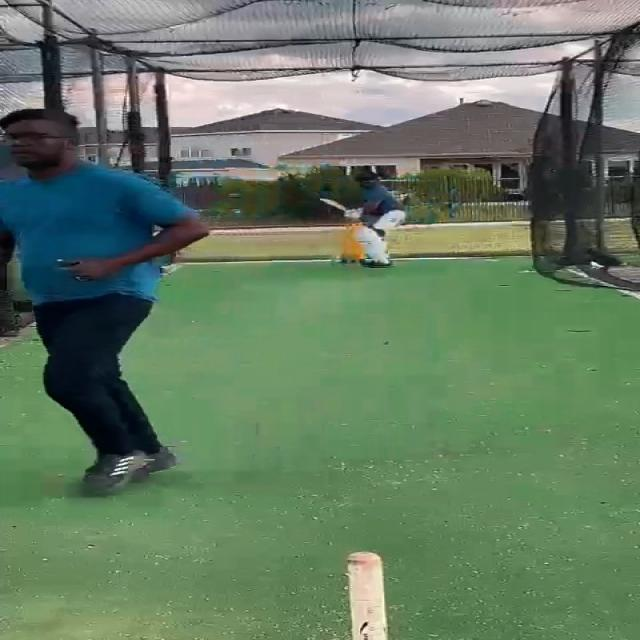batsman: (318, 170, 409, 269)
